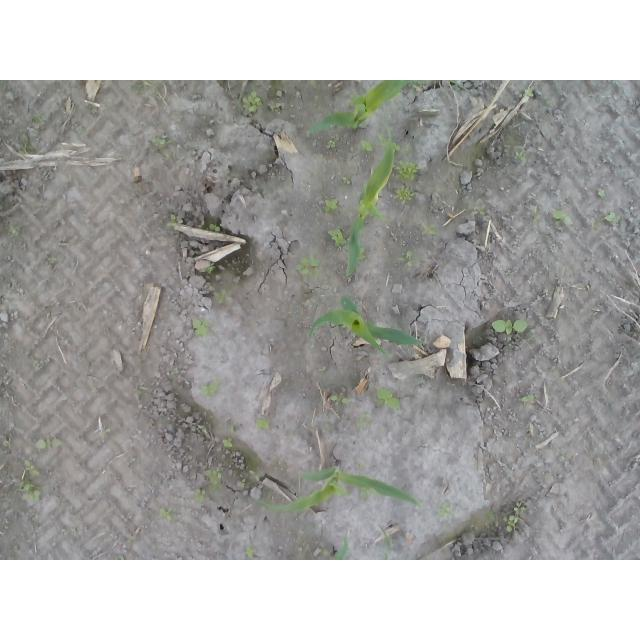Maize: (256, 462, 425, 514), (345, 128, 396, 277), (306, 293, 418, 355), (308, 81, 417, 136), (335, 528, 394, 561)
Weeds: (15, 457, 50, 506), (504, 499, 529, 533), (398, 245, 426, 272), (374, 385, 401, 412), (492, 317, 529, 336), (15, 130, 42, 156), (391, 159, 421, 182), (150, 134, 176, 160), (241, 88, 264, 117), (326, 222, 350, 248), (296, 254, 320, 279), (129, 80, 163, 97), (32, 433, 65, 450), (199, 375, 222, 399), (393, 183, 418, 205), (435, 496, 457, 520), (205, 465, 223, 492), (593, 210, 623, 225), (212, 285, 233, 306), (191, 316, 211, 337), (264, 102, 296, 115), (4, 220, 24, 240), (164, 212, 184, 232), (357, 409, 375, 431), (553, 210, 576, 226), (329, 391, 353, 406), (29, 112, 48, 129), (322, 195, 338, 215), (160, 505, 177, 523), (255, 416, 273, 433), (519, 392, 537, 409), (421, 223, 440, 237), (239, 470, 254, 487), (394, 142, 415, 154), (2, 432, 14, 451), (200, 262, 217, 275), (523, 87, 542, 98), (358, 140, 374, 153), (245, 542, 256, 560), (194, 488, 206, 504), (416, 80, 432, 92), (191, 423, 209, 433), (359, 247, 369, 263), (360, 488, 377, 497), (513, 151, 528, 161), (558, 448, 566, 465), (222, 437, 234, 448), (209, 223, 221, 234), (326, 139, 337, 151), (543, 100, 553, 113), (354, 462, 370, 470), (449, 80, 463, 89), (319, 366, 329, 377), (319, 544, 330, 554), (340, 176, 352, 185), (112, 554, 129, 560), (47, 255, 57, 265), (227, 423, 237, 433), (127, 534, 135, 544), (480, 207, 487, 218), (597, 190, 606, 198), (417, 336, 424, 346), (375, 338, 382, 346)
